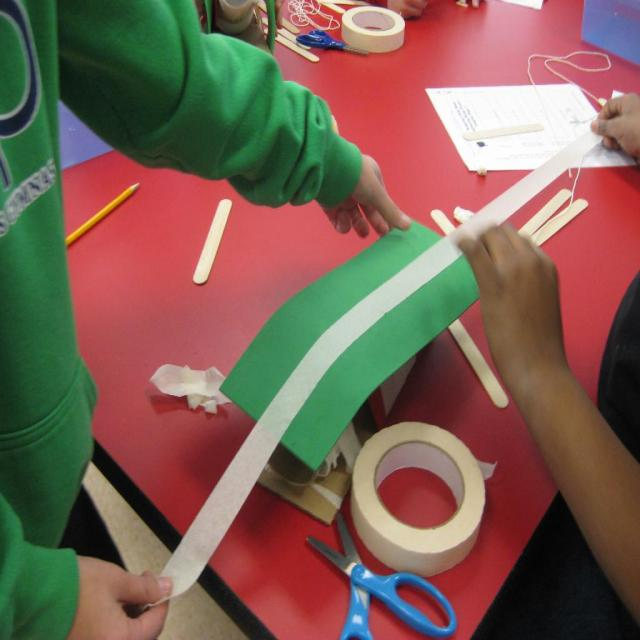scissors: (305, 510, 457, 639), (296, 29, 368, 55)
